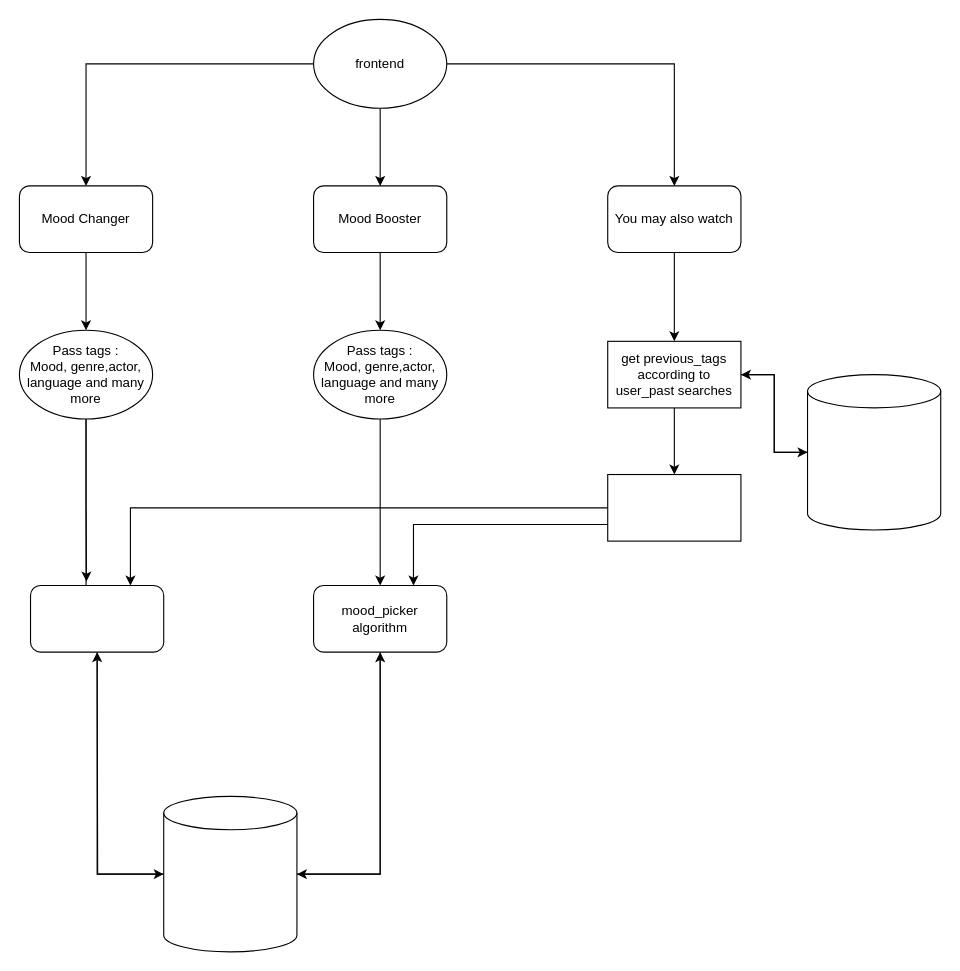
Image size: 960x971. Some labels were removed from this diagram. Each missing label, with the centre of its shape:
mood_changer algorithm: point 96,618
movie_rec collection: point 230,873
process_tags: point 674,507
user_rec collection: point 873,452
